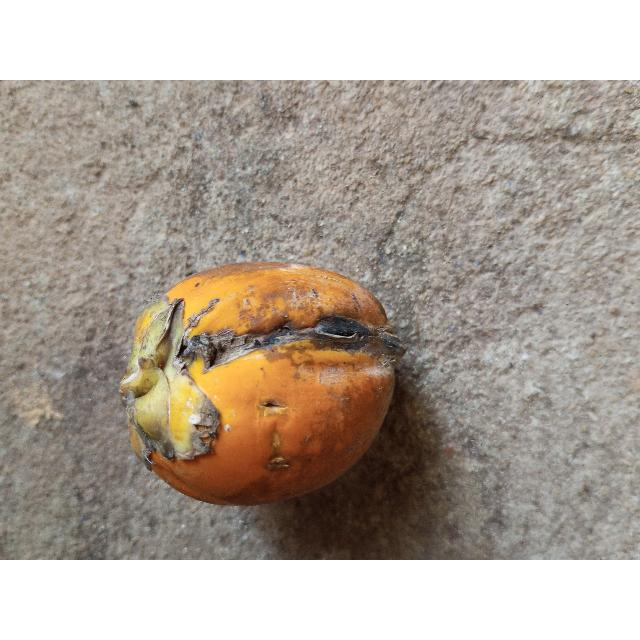damaged: (120, 263, 407, 505)
